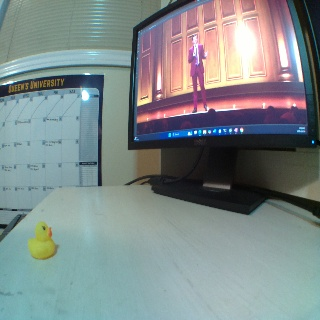duck_regular: (26, 222, 57, 259)
